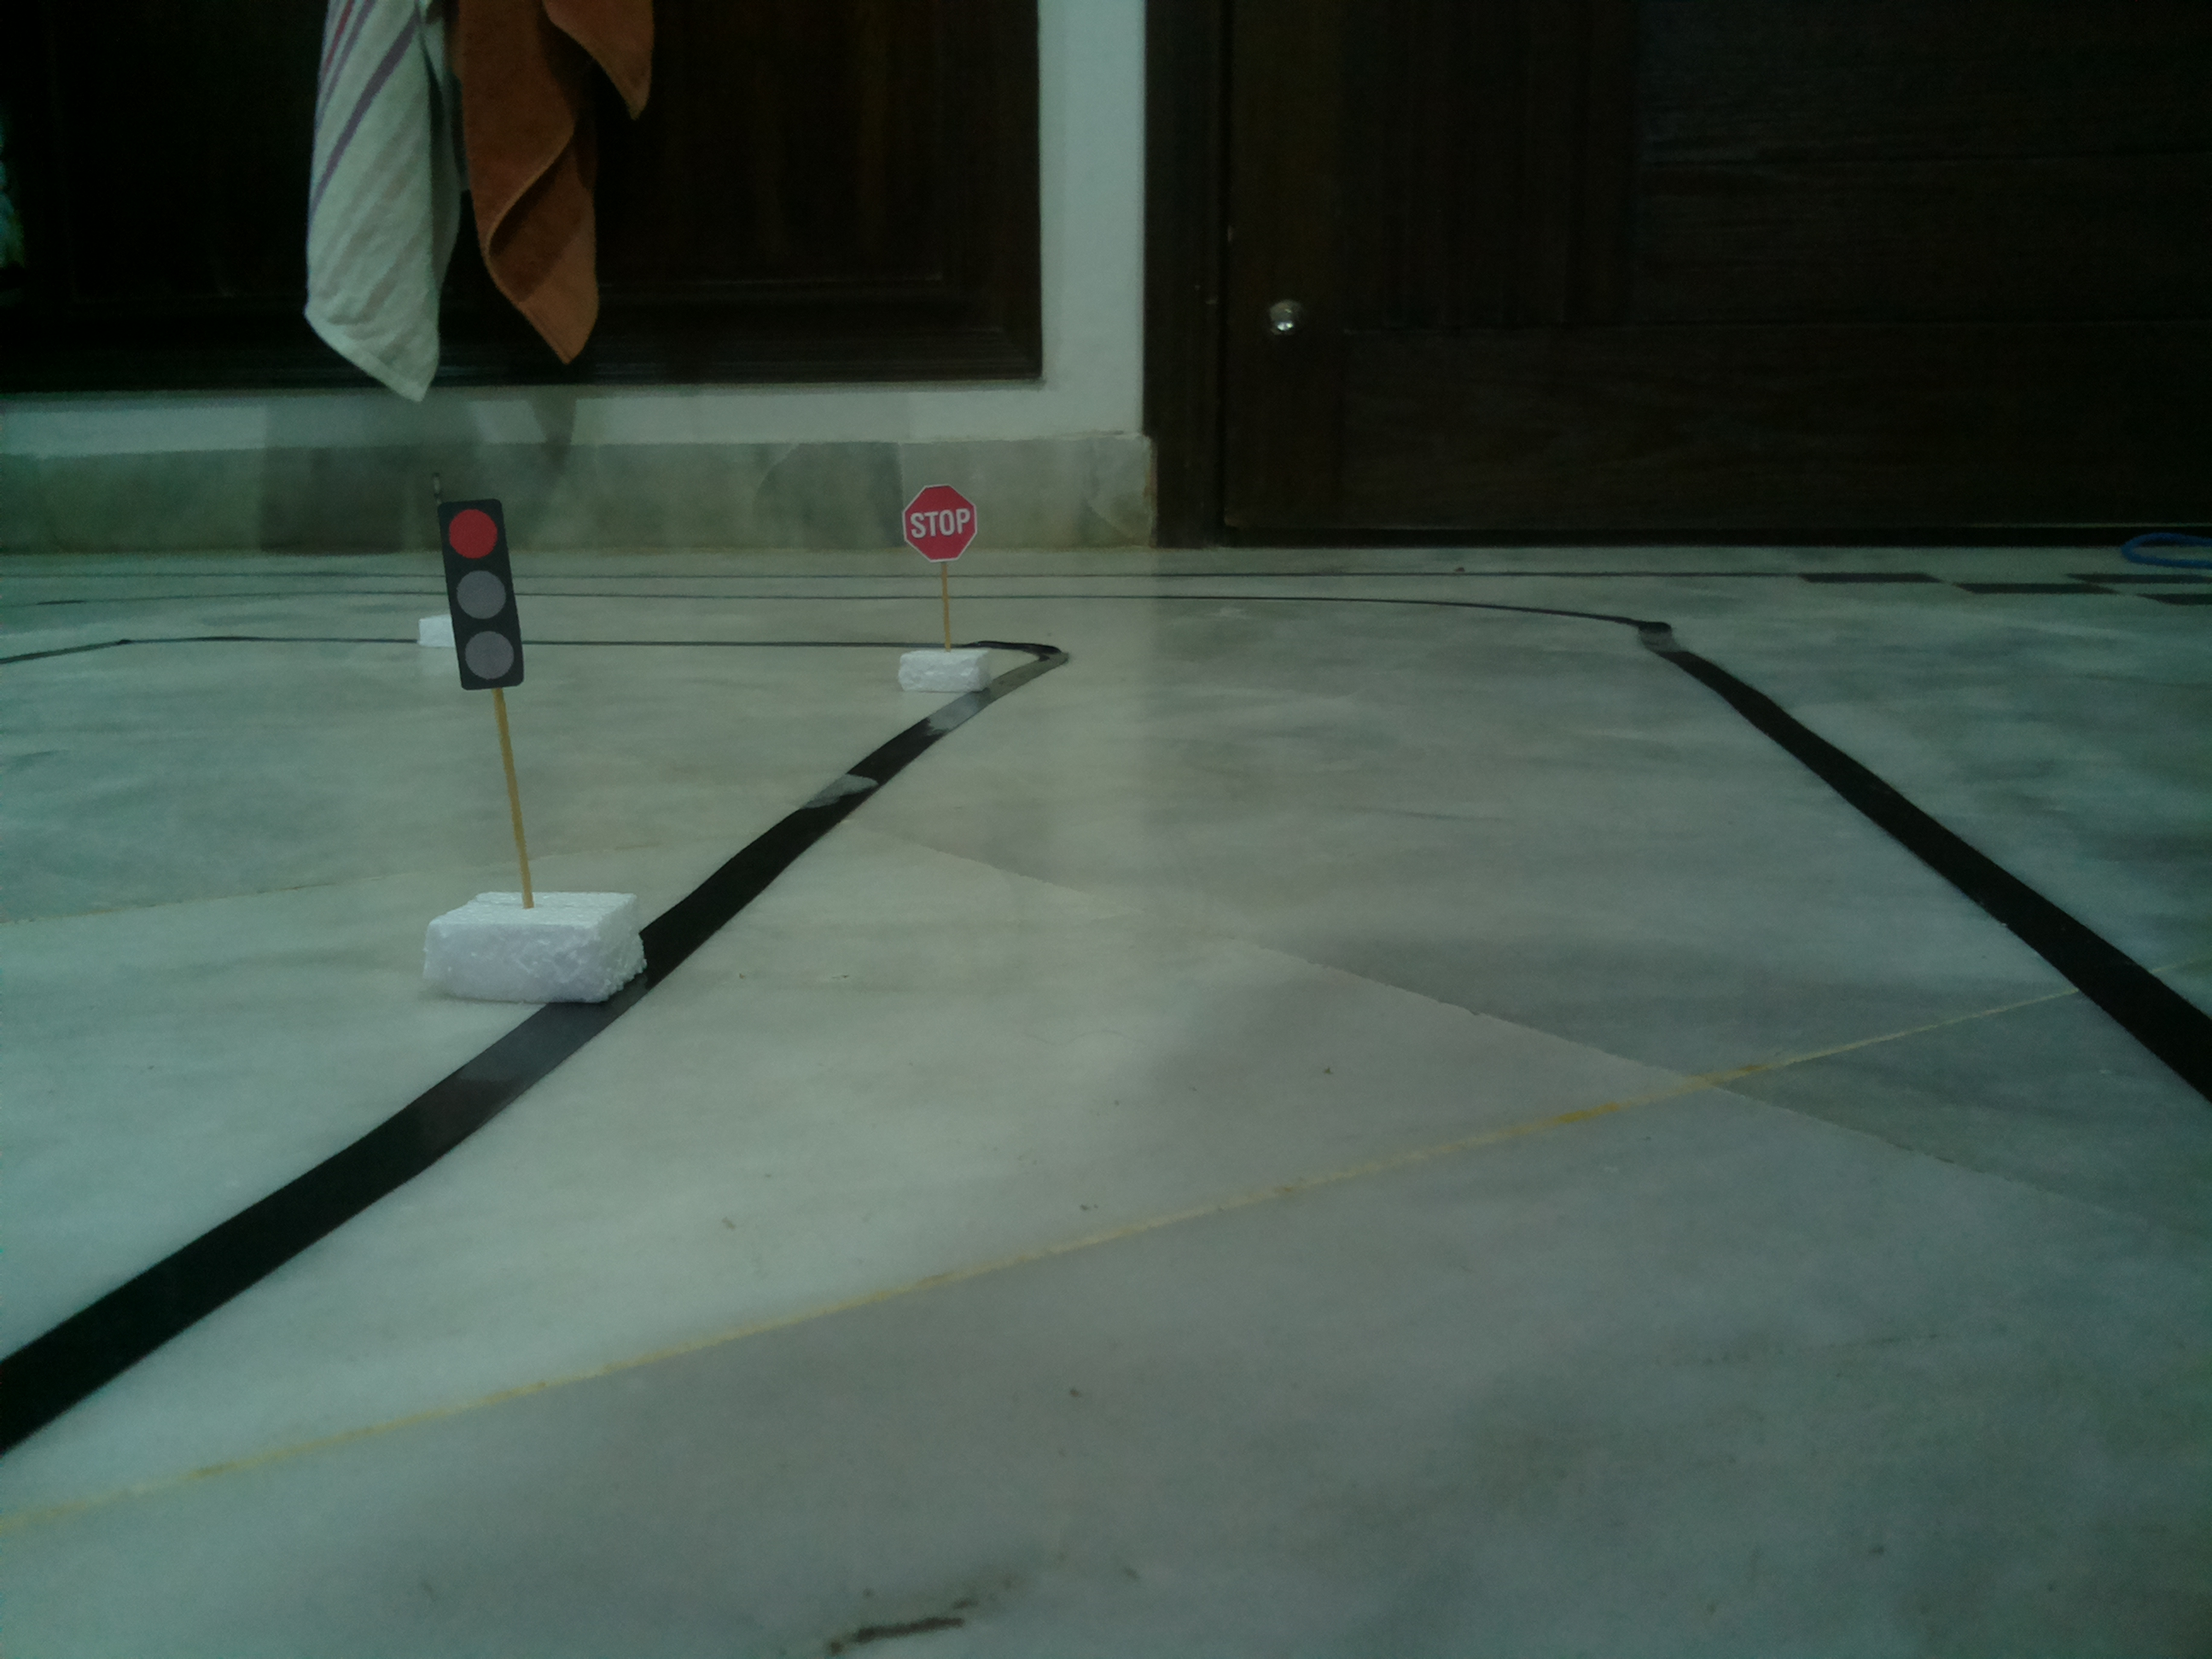Red traffic light: (434, 498, 529, 692)
Stop sign: (902, 483, 979, 563)
